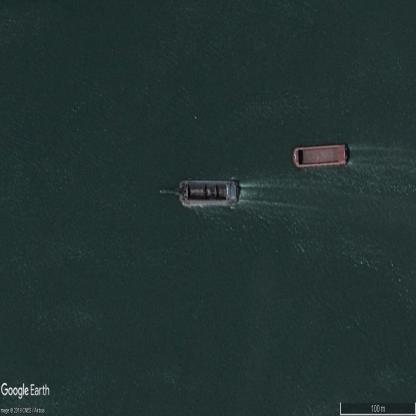ship: (178, 178, 240, 208), (292, 144, 350, 170)
